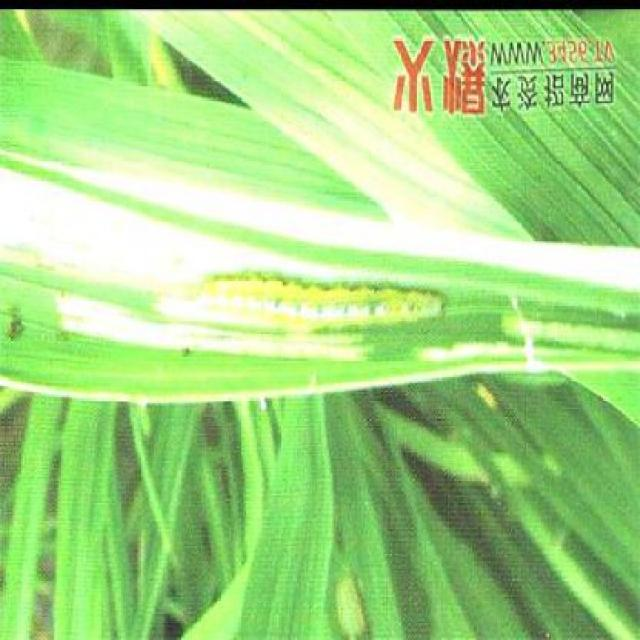leaf-folder: (183, 260, 455, 355)
